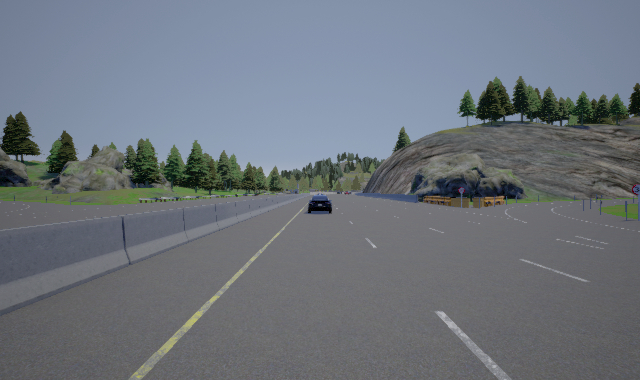traffic_sign: (632, 184, 640, 195), (458, 187, 465, 193)
vehicle: (306, 193, 332, 214)
